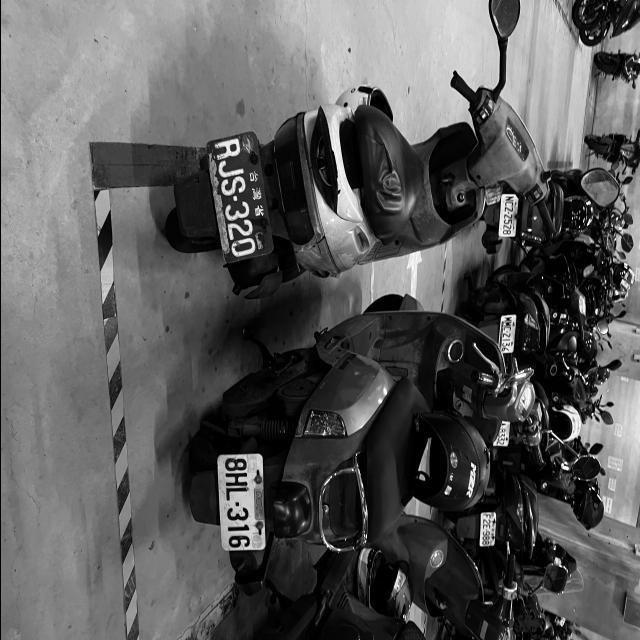-: (230, 194, 239, 201), (234, 500, 240, 508), (506, 212, 508, 214), (505, 331, 507, 333), (484, 529, 486, 531)
0: (229, 235, 256, 260)
1: (225, 522, 250, 534), (501, 338, 510, 342)
2: (225, 216, 253, 243), (502, 213, 512, 220), (502, 224, 512, 230), (502, 333, 510, 338), (494, 442, 504, 446), (482, 520, 490, 524)
3: (222, 199, 251, 222), (226, 507, 250, 521), (501, 342, 509, 348), (497, 432, 505, 438), (496, 438, 504, 442)
5: (502, 220, 512, 224)
6: (227, 534, 249, 550), (501, 348, 508, 352)
8: (224, 458, 247, 472), (502, 230, 512, 236), (482, 536, 488, 541), (481, 542, 488, 546)
9: (482, 532, 489, 536)
C: (504, 201, 514, 207)
E: (482, 524, 489, 530)
F: (482, 514, 490, 519)
H: (224, 471, 247, 487)
L: (224, 487, 248, 501)
N: (504, 196, 514, 202)
R: (212, 136, 241, 162)
S: (217, 174, 247, 200), (217, 158, 244, 180)
Z: (504, 206, 514, 212)
plate: (206, 130, 271, 264), (220, 456, 260, 552), (499, 194, 517, 238), (498, 314, 516, 354)
